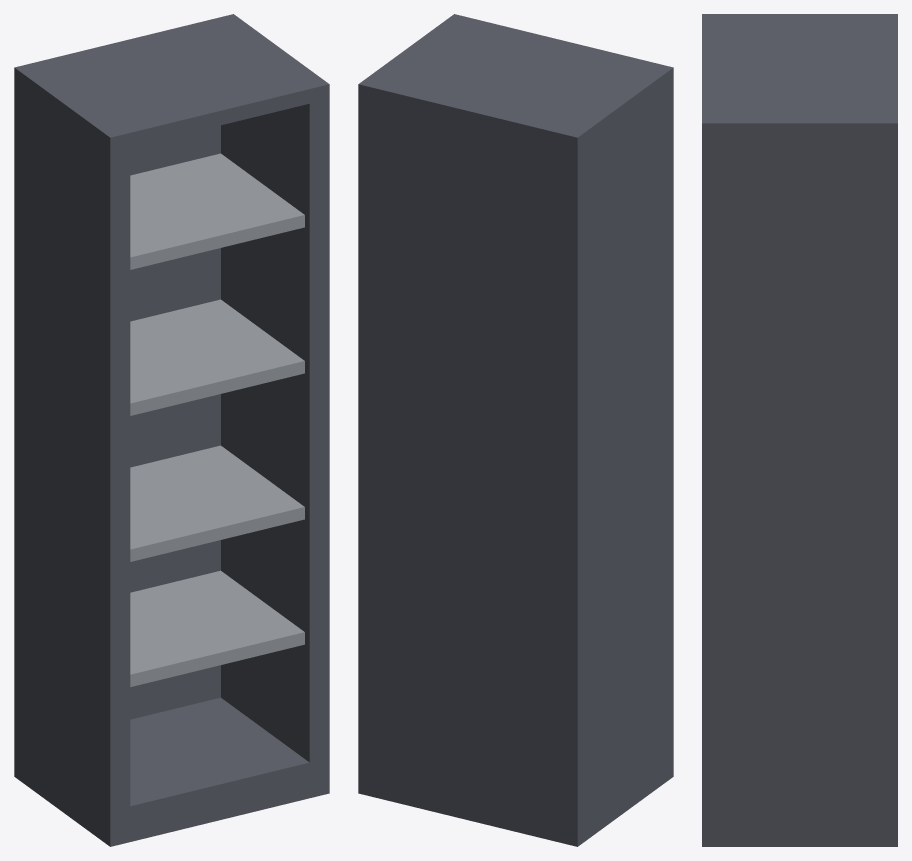
Rendered from Shelves_2C.fbx.
3 renders of one model, left to right at view 1: azimuth 30°, elevation 25°; view 2: azimuth 150°, elevation 25°; view 3: azimuth 270°, elevation 25°, orthographic. The views are drawn at different scales.
Parts seen in each view (by area): view 1: polySurface1683; view 2: polySurface1683; view 3: polySurface1683.
Part boxes in pixels (x1,y1,x2,y2): polySurface1683: [14, 14, 329, 846]; polySurface1683: [358, 14, 673, 846]; polySurface1683: [702, 14, 897, 846].
Size of the model in its own units: 1.1 by 3.4 by 0.8338.
Materials: 1 (1 with a texture image).
